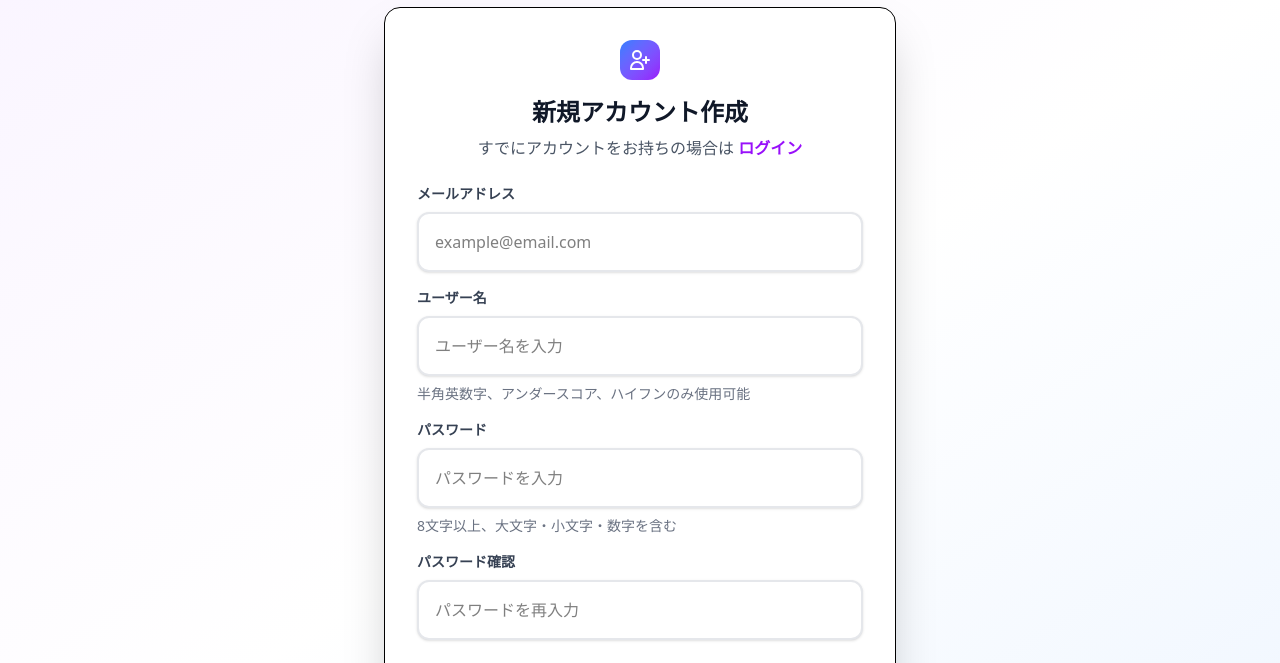
Test: RegisterForm Component › validates password confirmation
Enter mismatched passwords
In the field labelled "メールアドレス": [640, 242] box [417,212,863,272], type "test@example.com"
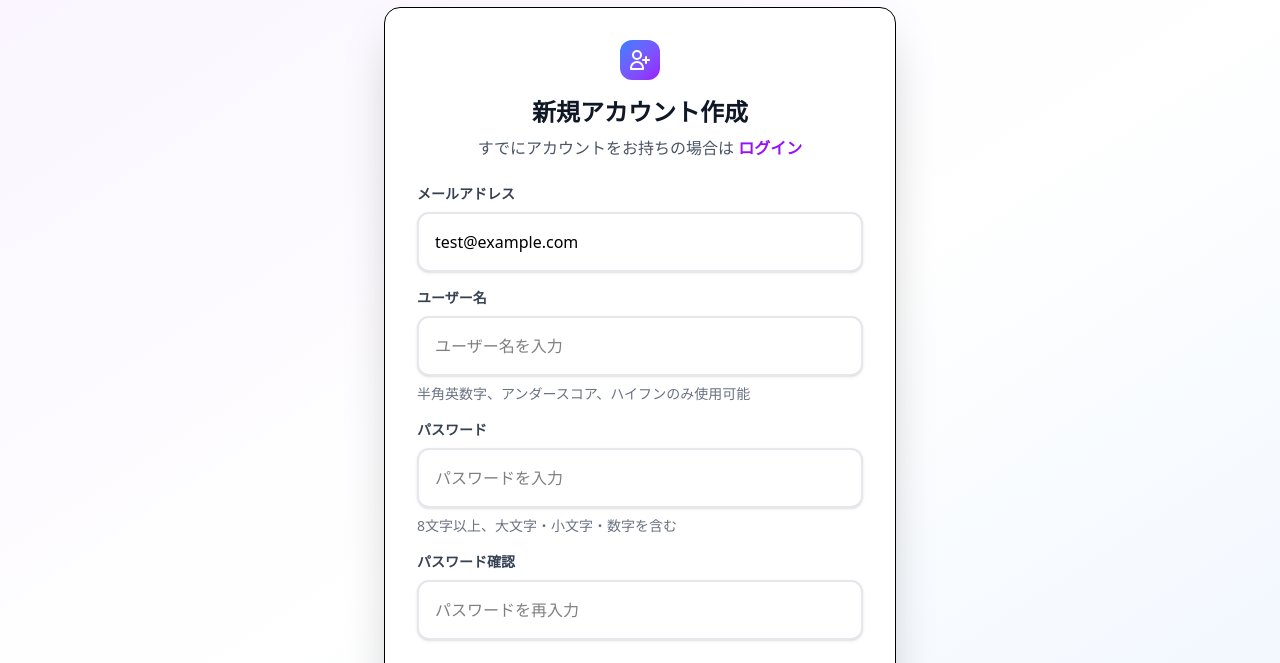
In the field labelled "ユーザー名": [640, 346] box [417,316,863,376], type "testuser"
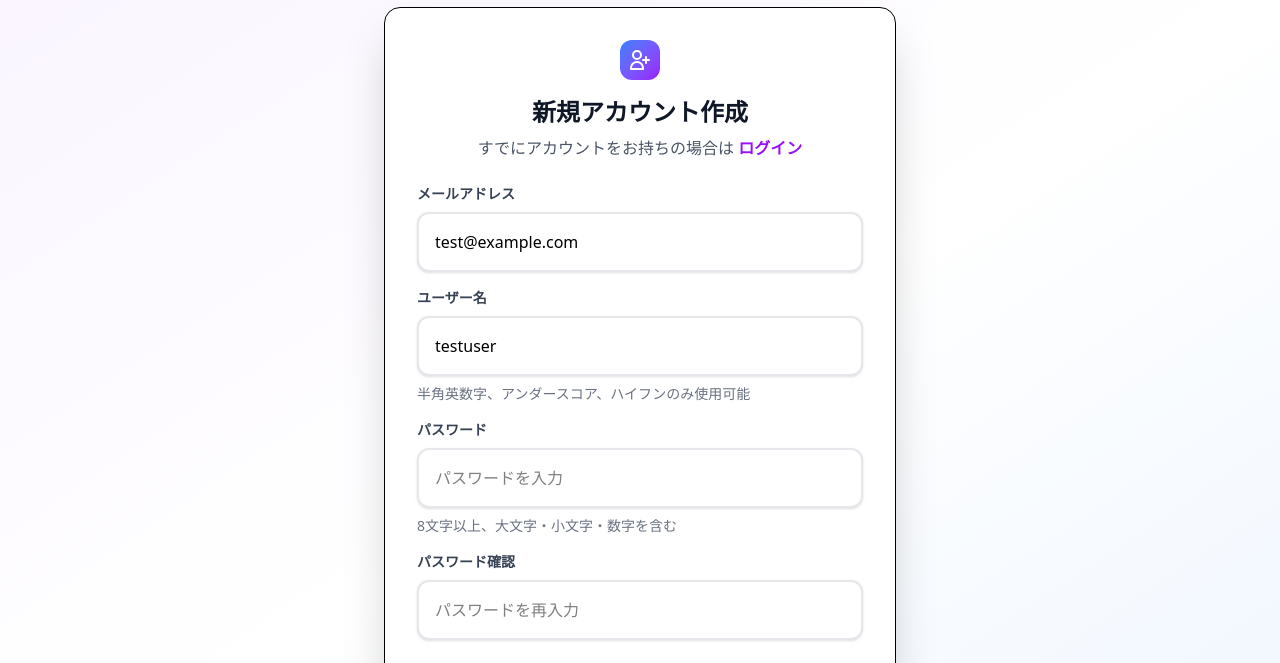
In the password field labelled "パスワード": [640, 478] box [417,448,863,508], type "Password123"
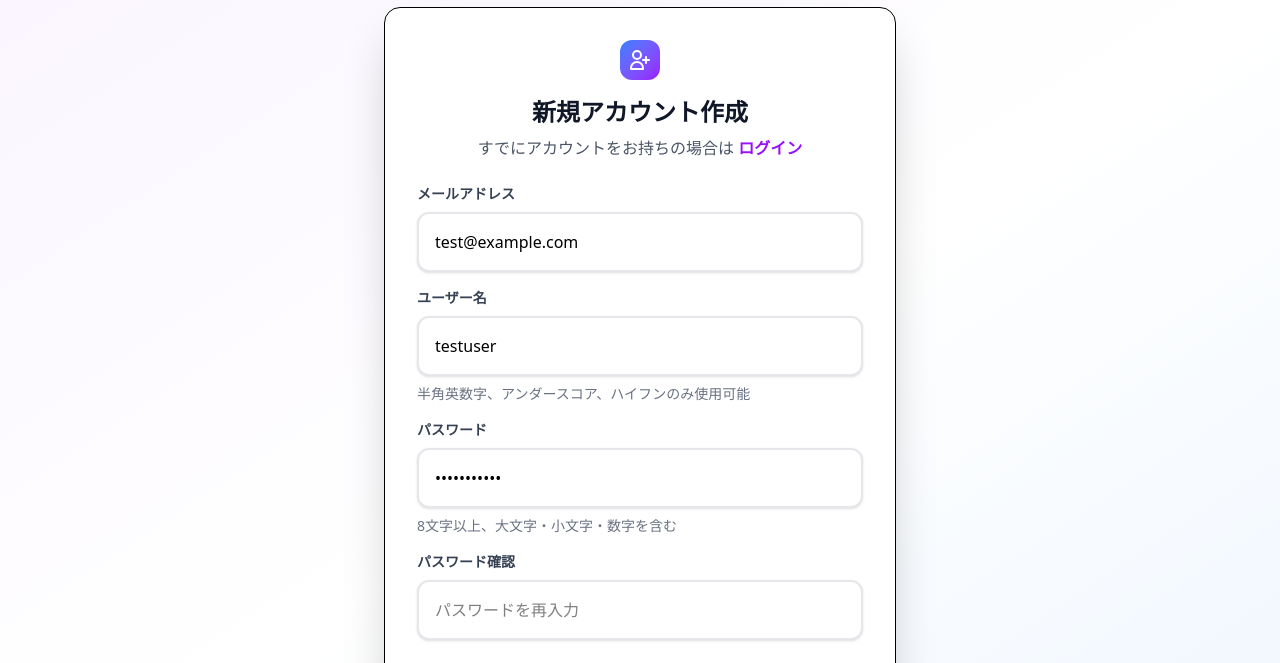
In the password field labelled "パスワード確認": [640, 610] box [417,580,863,640], type "DifferentPassword123"
(page scrolled)
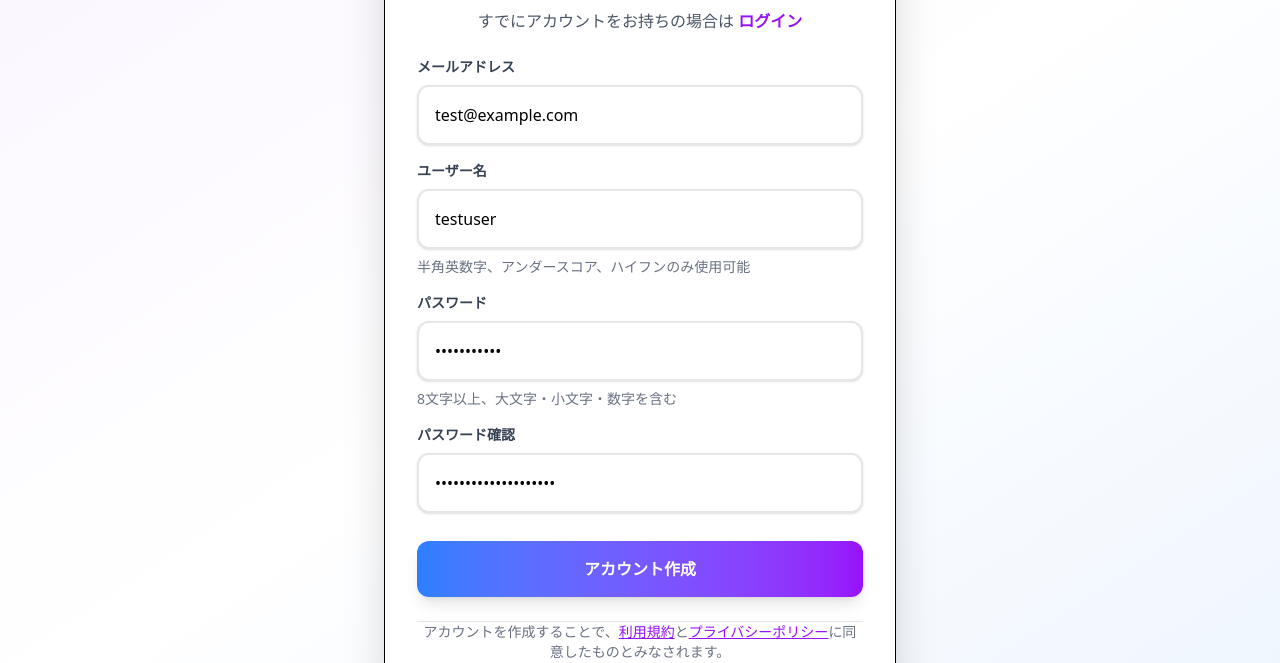
Click the button "アカウント作成": [640, 569] box [417,541,863,597]
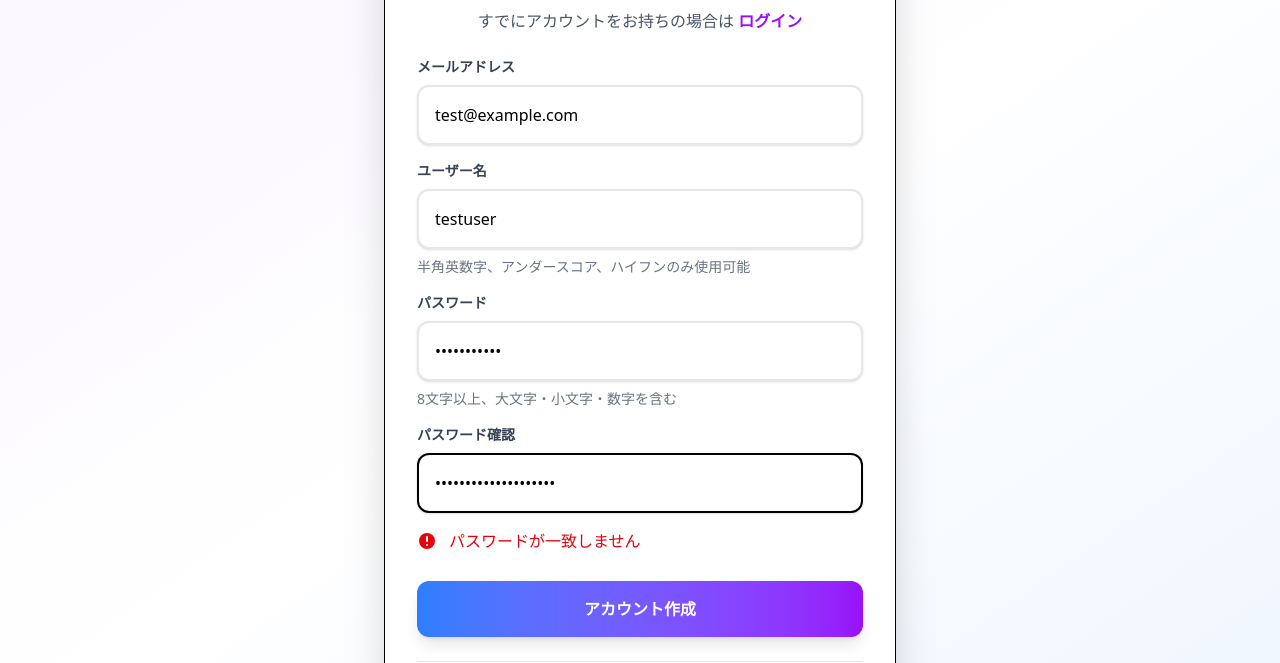
Expected: the text "パスワードが一致しません" is shown, [417,530,640,552]
